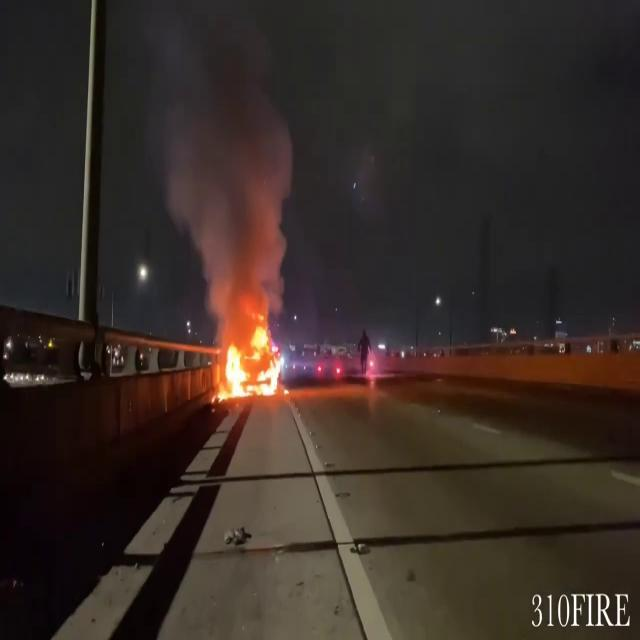Fire: (212, 315, 286, 401)
Smoke: (139, 2, 296, 314)
